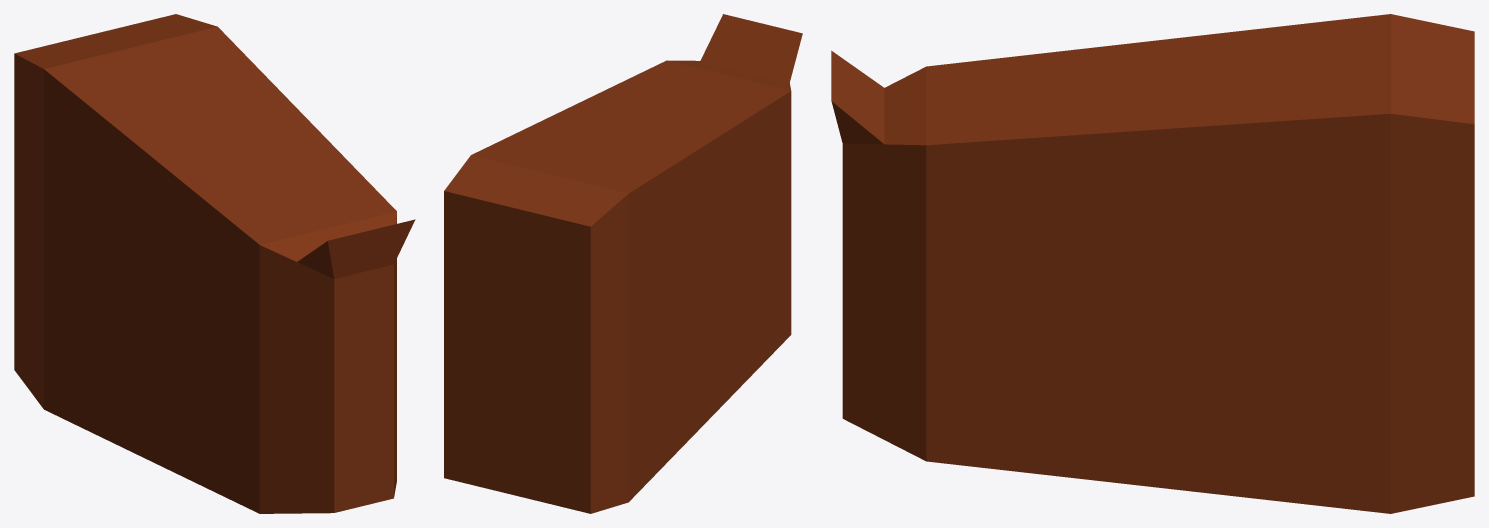
Rendered from WalnutBag.obj.
The picture shows the model from 3 angles, left to right: view 1: azimuth 30°, elevation 25°; view 2: azimuth 150°, elevation 25°; view 3: azimuth 270°, elevation 25°; orthographic projection. The views are drawn at different scales.
Parts seen in each view (by area): view 1: bag.000_bag.001; view 2: bag.000_bag.001; view 3: bag.000_bag.001.
Part boxes in pixels (x1,y1,x2,y2): bag.000_bag.001: (14,14,415,513); bag.000_bag.001: (444,14,802,513); bag.000_bag.001: (831,14,1474,513).
Size of the model in its own units: 0.1101 by 0.2059 by 0.2999.
